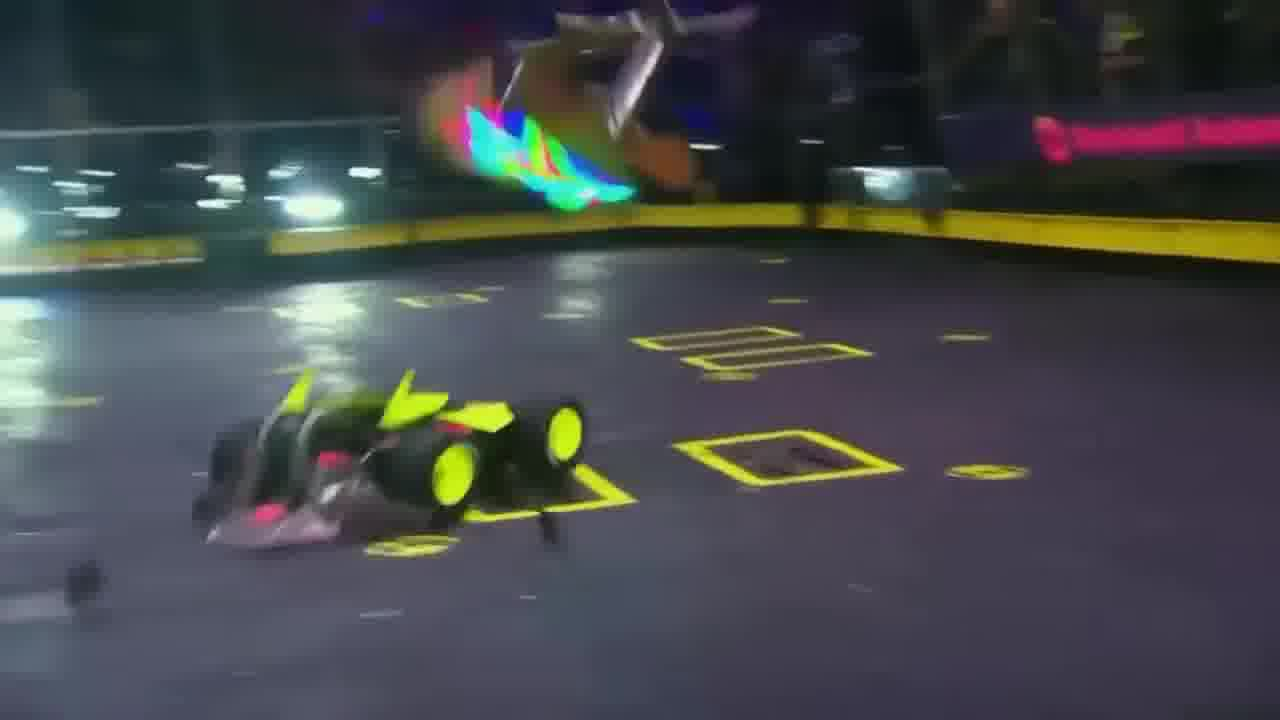combatbot: (185, 363, 601, 557), (401, 0, 720, 221)
